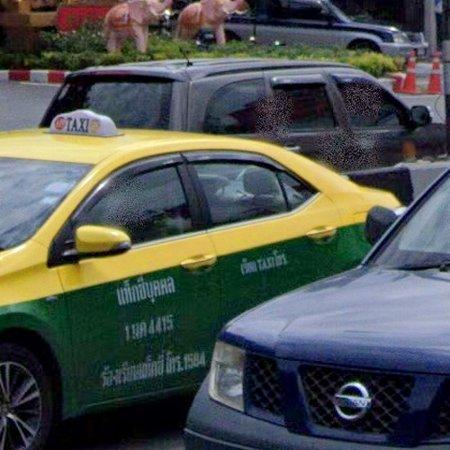taxis: (0, 111, 399, 450)
